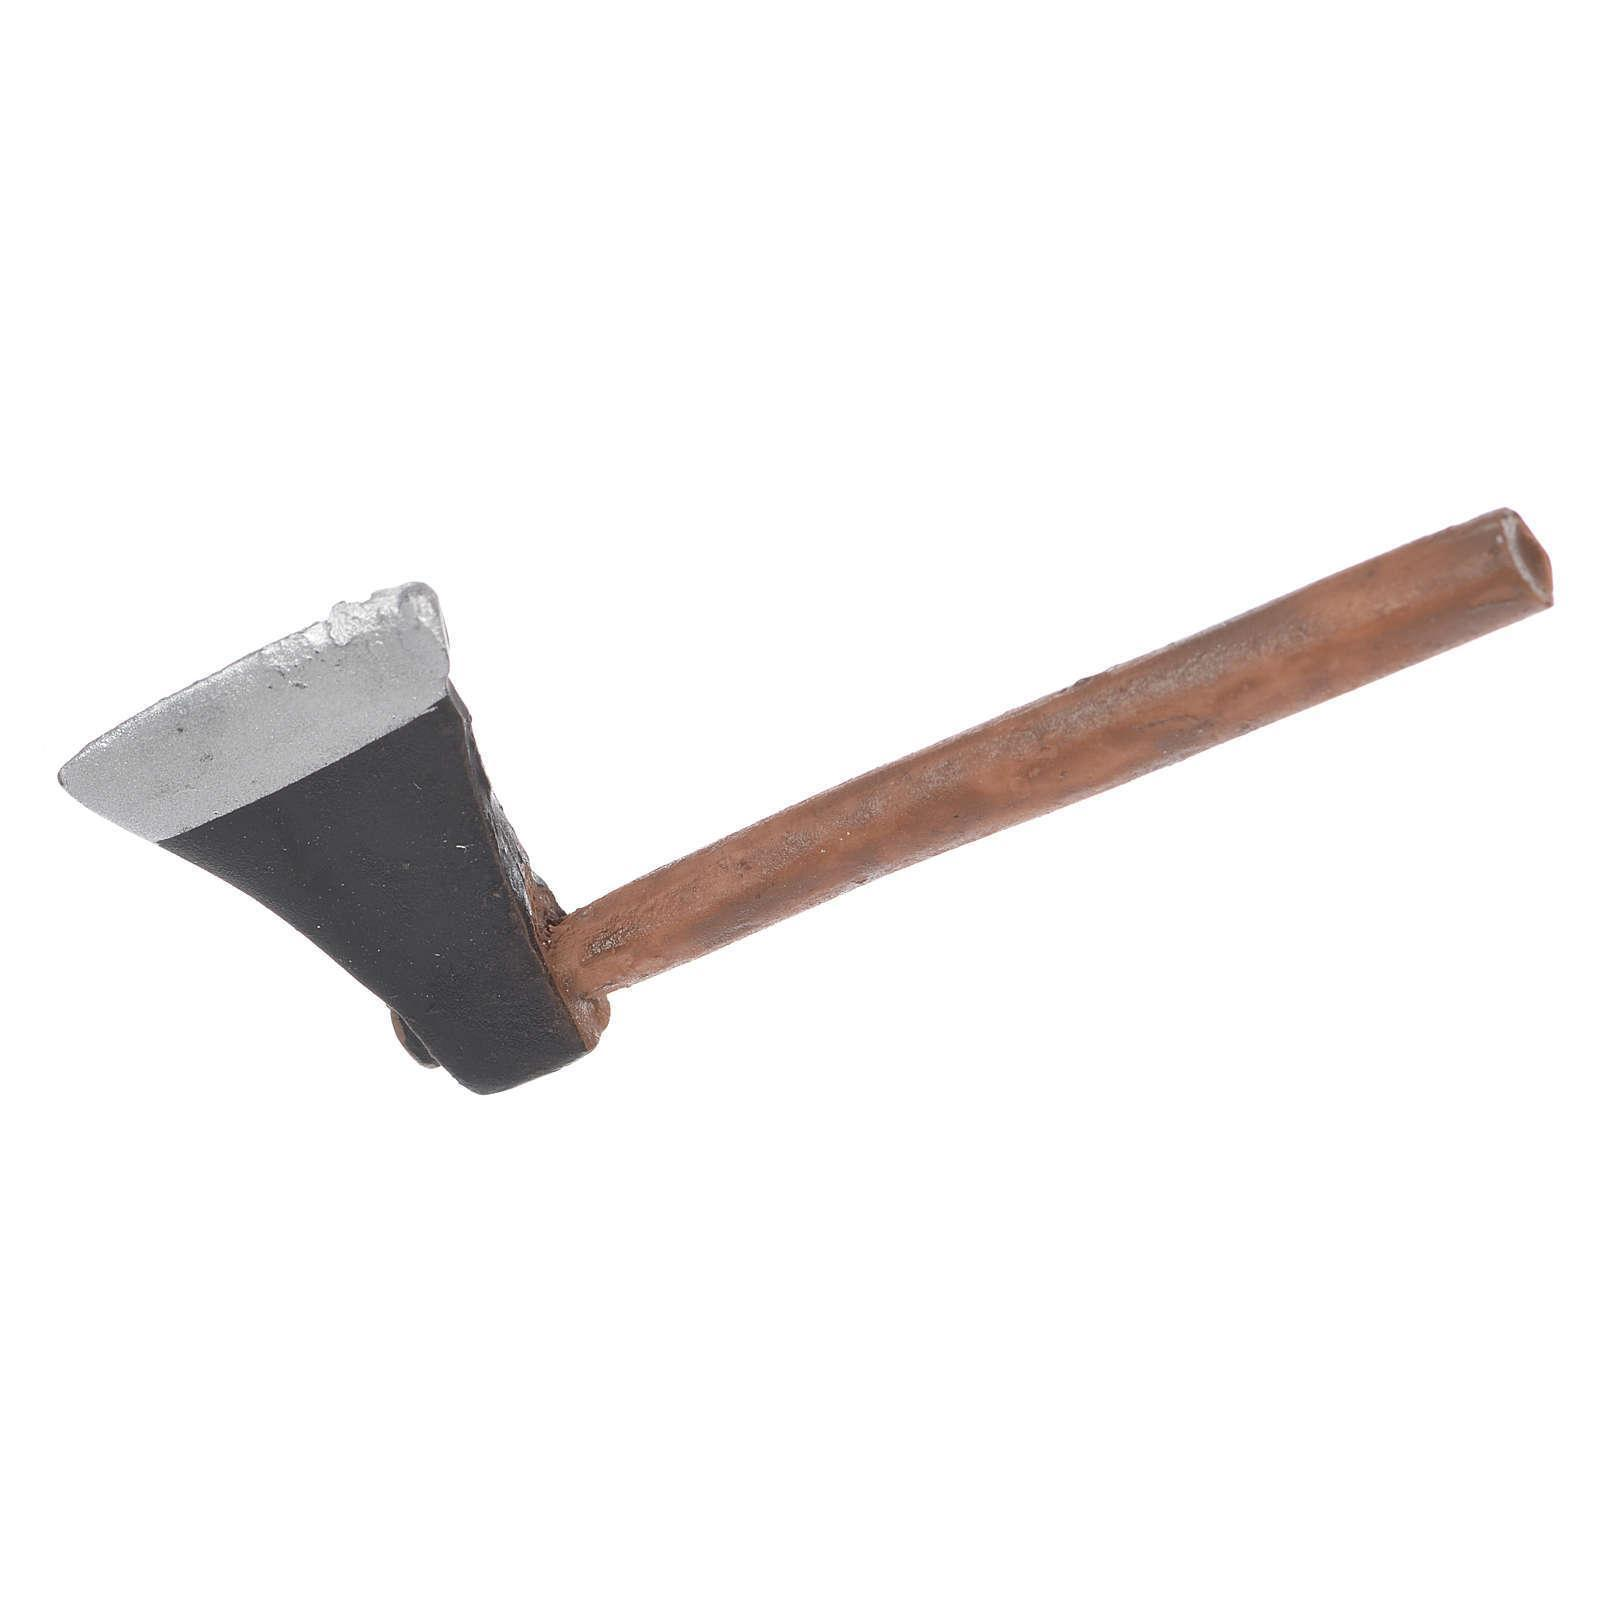machado: (59, 508, 1552, 1093)
